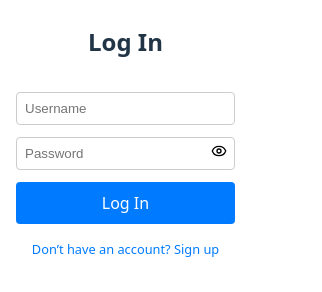
Scenario: Login › shows validation error if fields empty
The image size is (322, 292).
click the submit button by role
Click the button "Log In": (126,203) left=16, top=182, right=235, bottom=224
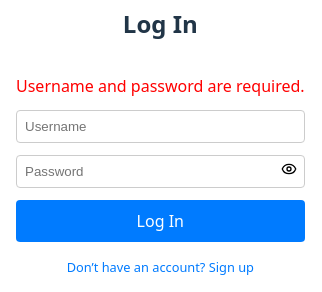
Now the text "Username and password are required." is shown, box left=16, top=74, right=305, bottom=98
